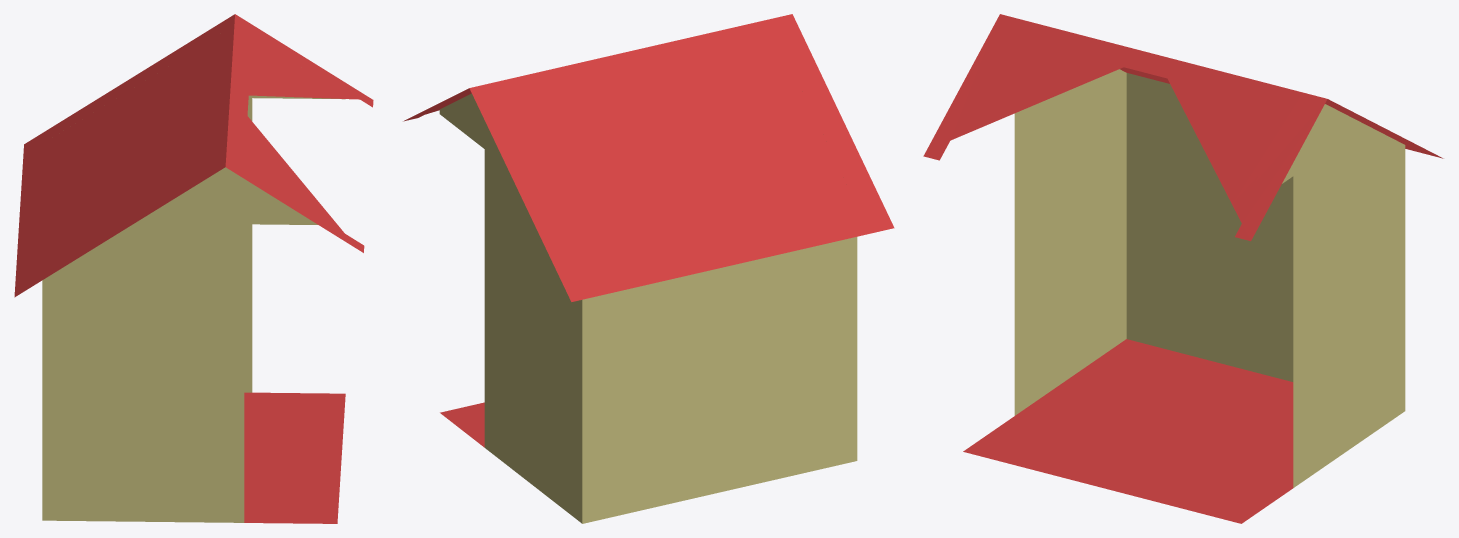
3 views of the same model, side by side, from view 1: azimuth 30°, elevation 25°; view 2: azimuth 150°, elevation 25°; view 3: azimuth 270°, elevation 25° (orthographic). The views are drawn at different scales.
Size of the model in its own units: 13.5 by 13.62 by 11.21.
